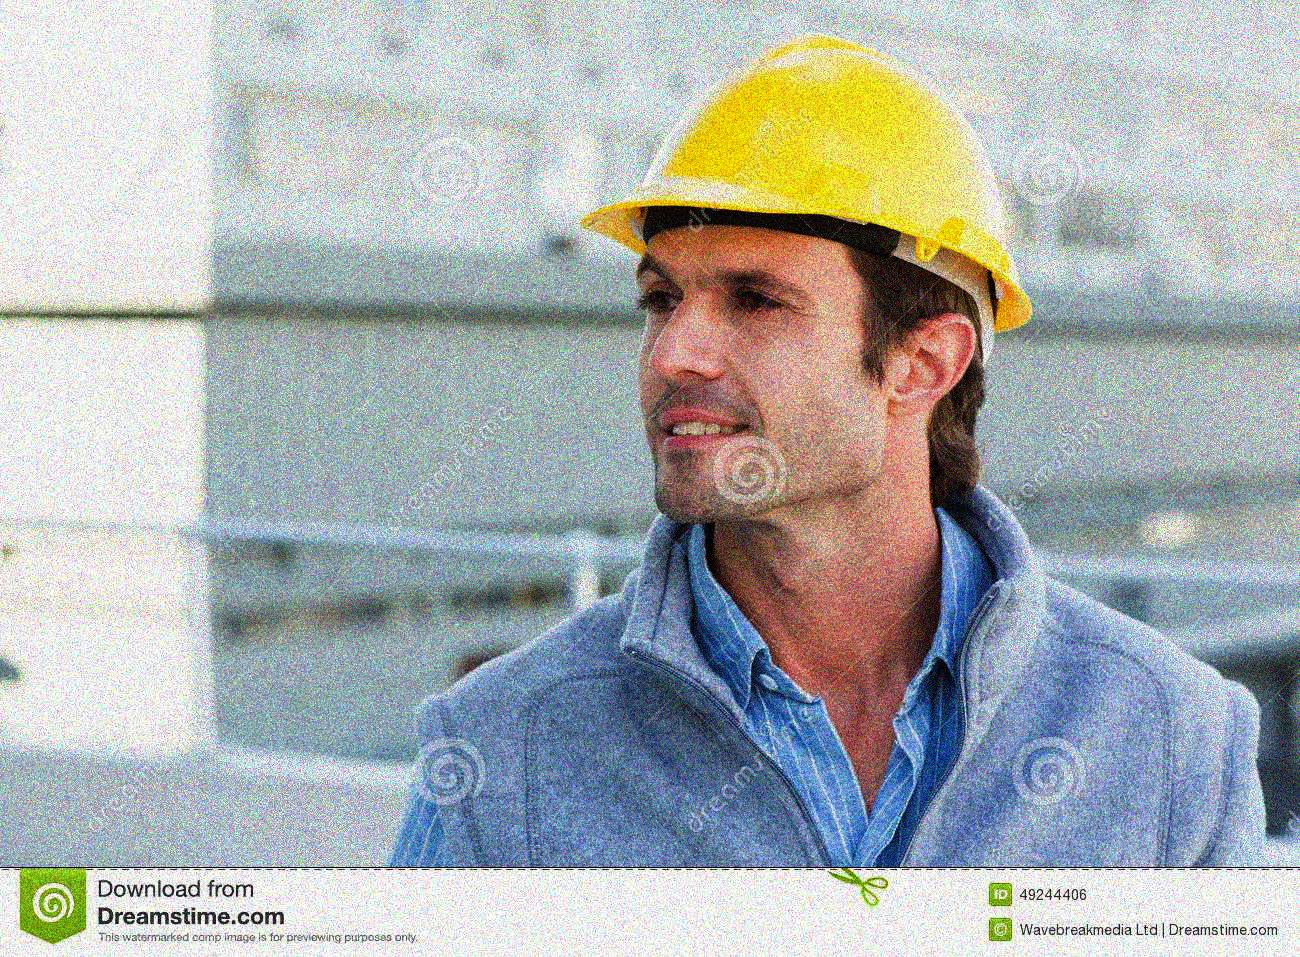helmet: (580, 30, 1038, 532)
